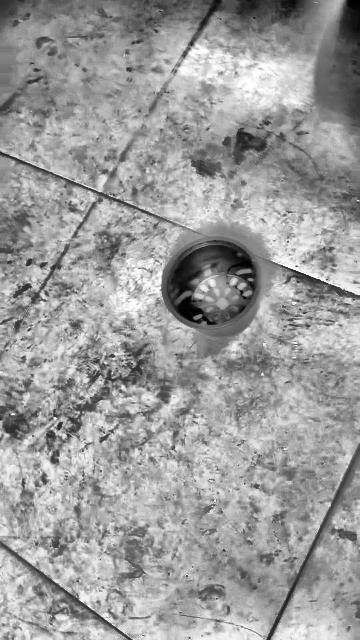pot: (163, 236, 261, 332)
